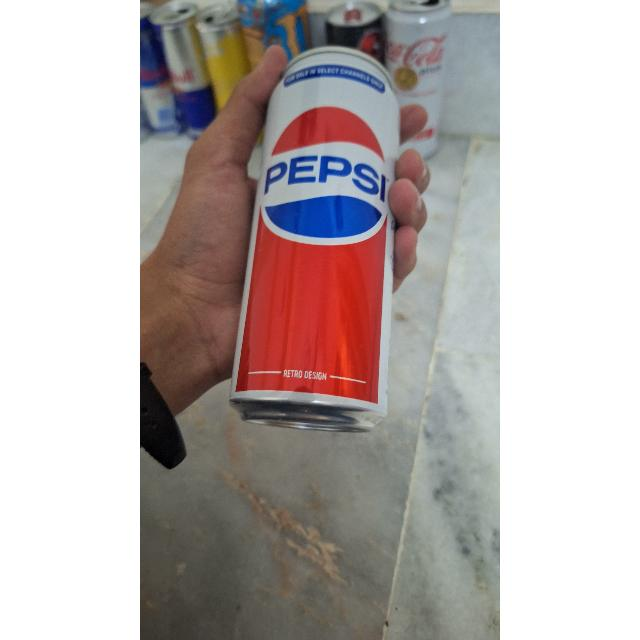Pepsi Retro: (246, 40, 396, 432)
